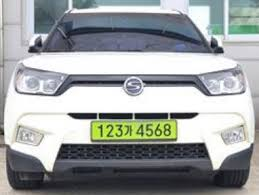car: (87, 118, 184, 143)
